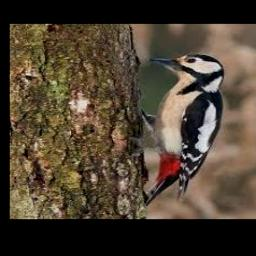Woodpecker: (123, 53, 224, 205)
